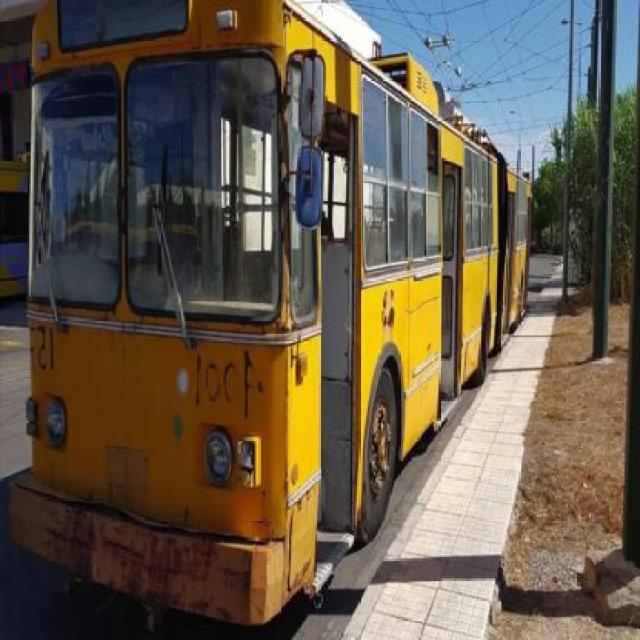bus: (36, 10, 533, 628)
